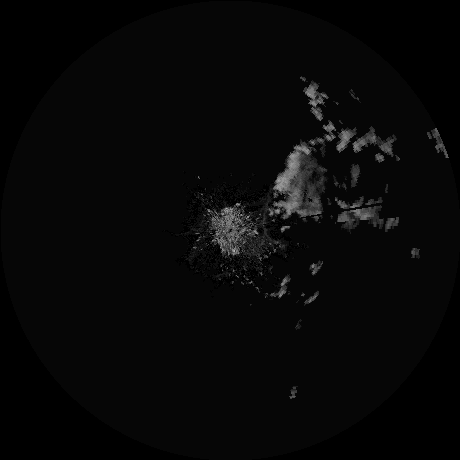frontgust: (261, 198, 279, 245)
